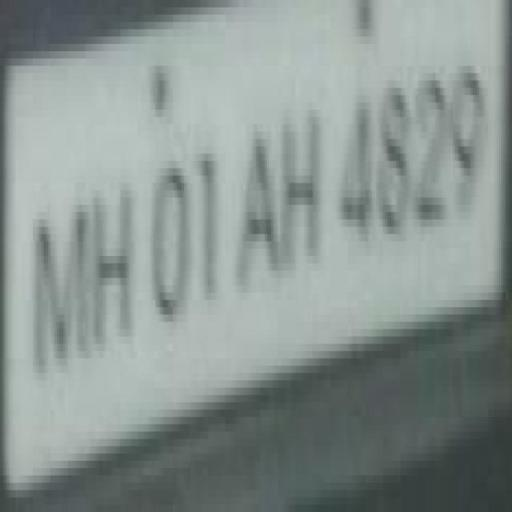number plate: (0, 0, 483, 482)
